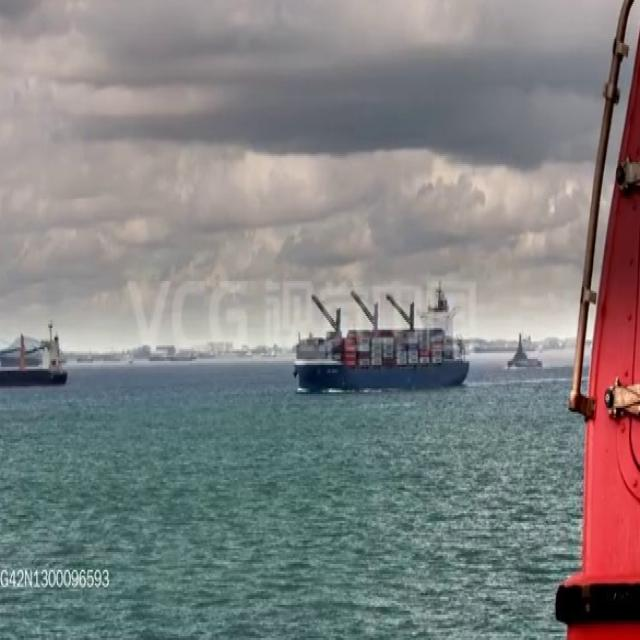cargoship: (286, 288, 472, 390), (0, 318, 67, 386), (509, 334, 544, 366)
